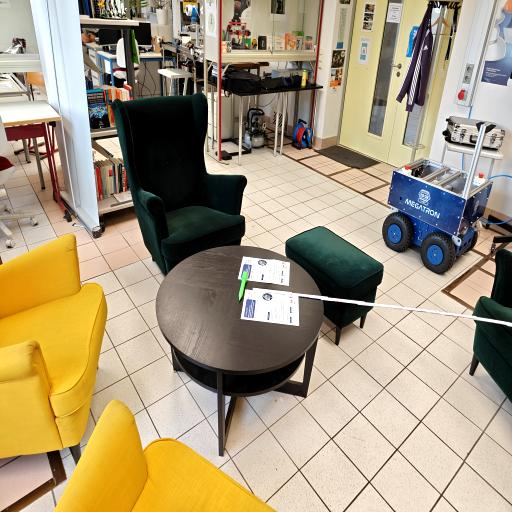Probe-Detection: (238, 271, 248, 300)
